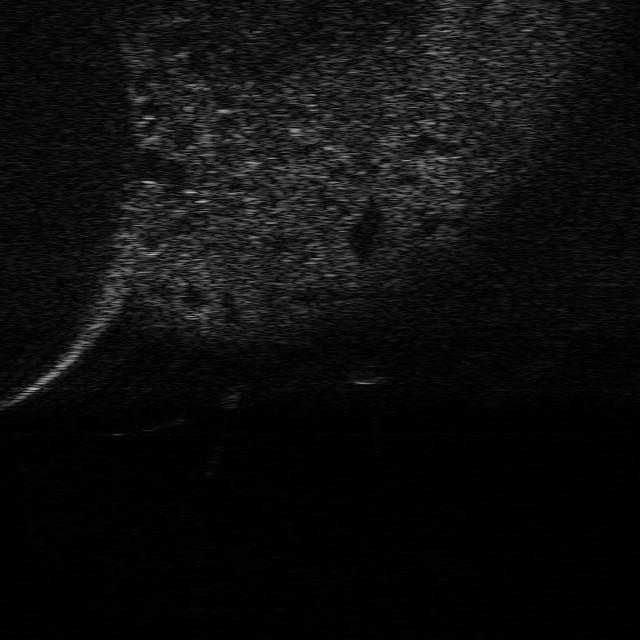cube: (343, 362, 382, 387)
cylinder: (217, 384, 245, 411)
